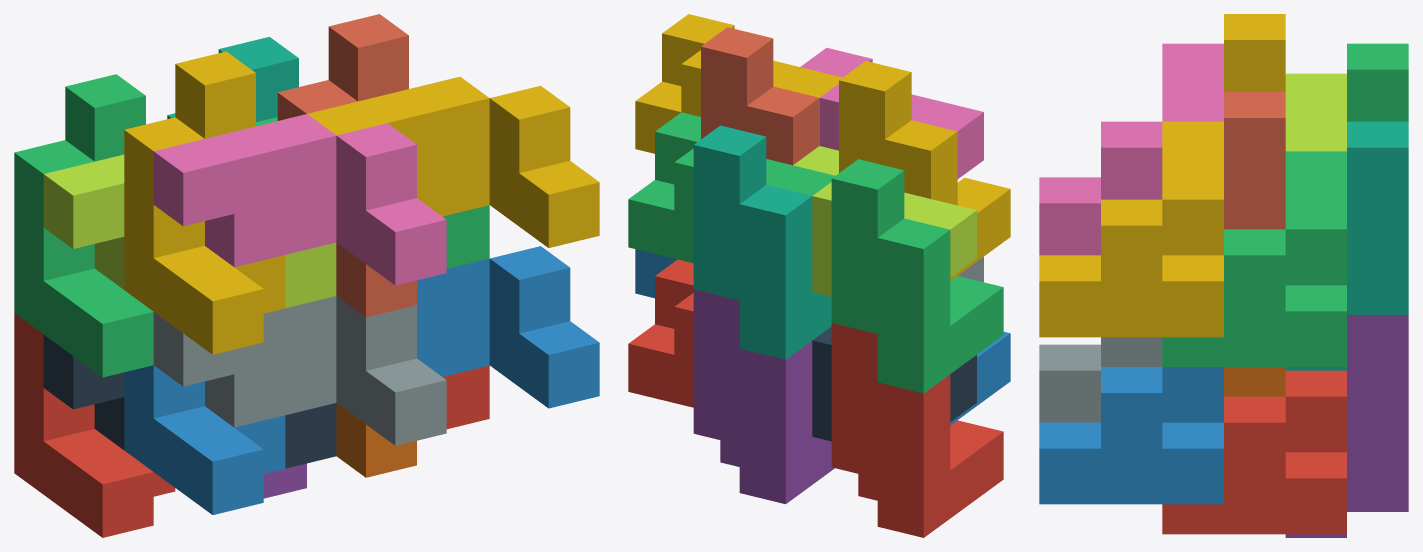
Rendered from tiling.obj.
The picture shows the model from 3 angles, left to right: view 1: azimuth 30°, elevation 25°; view 2: azimuth 150°, elevation 25°; view 3: azimuth 270°, elevation 25°; orthographic projection. The views are drawn at different scales.
Visible parts, largest first — view 1: copy_2_domain_4, copy_2_domain_2, copy_2_domain_8, copy_1_domain_4, copy_1_domain_3, copy_2_domain_6, copy_1_domain_1, copy_1_domain_2, copy_1_domain_8, copy_2_domain_3, copy_2_domain_1, copy_1_domain_6 (+4 smaller); view 2: copy_1_domain_3, copy_1_domain_7, copy_1_domain_1, copy_1_domain_5, copy_1_domain_4, copy_1_domain_8, copy_2_domain_7, copy_2_domain_8, copy_2_domain_5, copy_2_domain_3, copy_2_domain_4, copy_2_domain_1 (+2 smaller); view 3: copy_2_domain_8, copy_2_domain_7, copy_2_domain_6, copy_2_domain_5, copy_2_domain_4, copy_1_domain_5, copy_1_domain_7, copy_1_domain_8, copy_2_domain_2, copy_1_domain_3, copy_2_domain_3, copy_1_domain_4 (+1 smaller).
Boxes of the visible parts, left/top/right/bottom form: copy_2_domain_4: left=153, top=114, right=446, bottom=285; copy_2_domain_2: left=153, top=296, right=446, bottom=445; copy_2_domain_8: left=307, top=76, right=599, bottom=247; copy_1_domain_4: left=124, top=51, right=285, bottom=354; copy_1_domain_3: left=14, top=74, right=153, bottom=377; copy_2_domain_6: left=417, top=246, right=599, bottom=408; copy_1_domain_1: left=14, top=313, right=175, bottom=537; copy_1_domain_2: left=124, top=365, right=285, bottom=514; copy_1_domain_8: left=277, top=14, right=416, bottom=317; copy_2_domain_3: left=43, top=154, right=336, bottom=308; copy_2_domain_1: left=43, top=335, right=336, bottom=468; copy_1_domain_6: left=336, top=403, right=416, bottom=477; copy_1_domain_3: left=831, top=159, right=1003, bottom=393; copy_1_domain_7: left=693, top=125, right=831, bottom=359; copy_1_domain_1: left=831, top=323, right=1003, bottom=537; copy_1_domain_5: left=693, top=289, right=834, bottom=504; copy_1_domain_4: left=839, top=61, right=1010, bottom=280; copy_1_domain_8: left=701, top=27, right=819, bottom=165; copy_2_domain_7: left=628, top=112, right=835, bottom=263; copy_2_domain_8: left=635, top=14, right=842, bottom=153; copy_2_domain_5: left=628, top=259, right=693, bottom=407; copy_2_domain_3: left=793, top=146, right=976, bottom=296; copy_2_domain_4: left=800, top=47, right=983, bottom=178; copy_2_domain_1: left=812, top=326, right=976, bottom=441; copy_2_domain_8: left=1039, top=121, right=1223, bottom=337; copy_2_domain_7: left=1162, top=151, right=1346, bottom=366; copy_2_domain_6: left=1039, top=367, right=1223, bottom=504; copy_2_domain_5: left=1162, top=370, right=1346, bottom=534; copy_2_domain_4: left=1039, top=43, right=1223, bottom=255; copy_1_domain_5: left=1285, top=315, right=1408, bottom=537; copy_1_domain_7: left=1285, top=121, right=1408, bottom=370; copy_1_domain_8: left=1224, top=92, right=1285, bottom=229; copy_2_domain_2: left=1039, top=337, right=1162, bottom=422; copy_1_domain_3: left=1347, top=43, right=1408, bottom=121; copy_2_domain_3: left=1285, top=73, right=1346, bottom=151; copy_1_domain_4: left=1224, top=14, right=1285, bottom=91.
Bounding box in the file's own units: 8 × 8 × 6.
